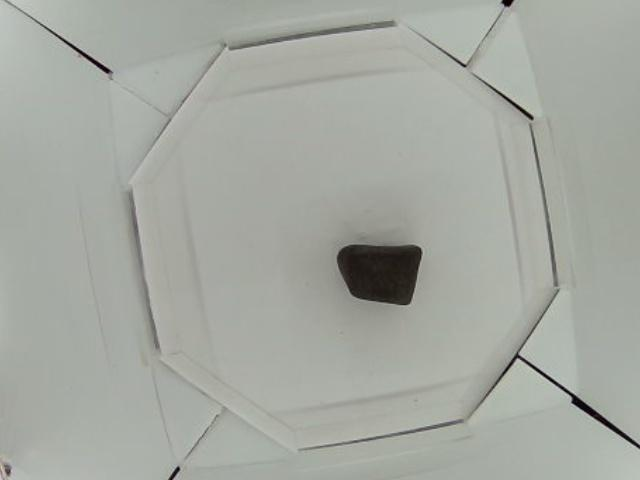Pebble: (330, 246, 423, 306)
